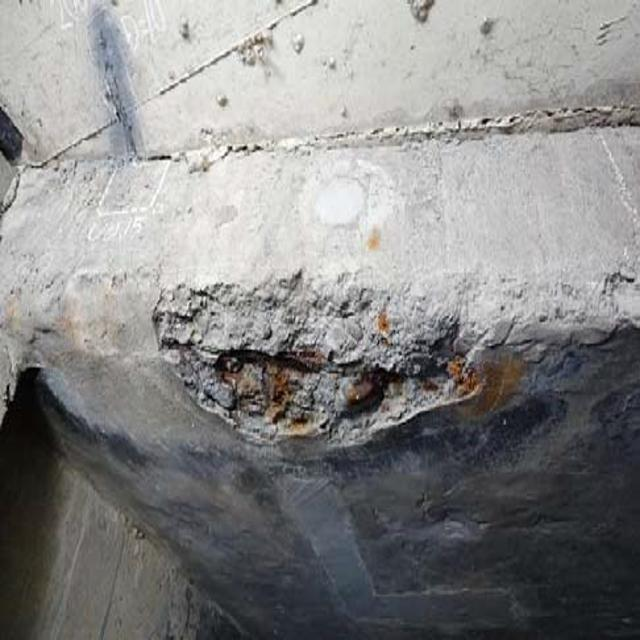spalling: (144, 276, 632, 456)
